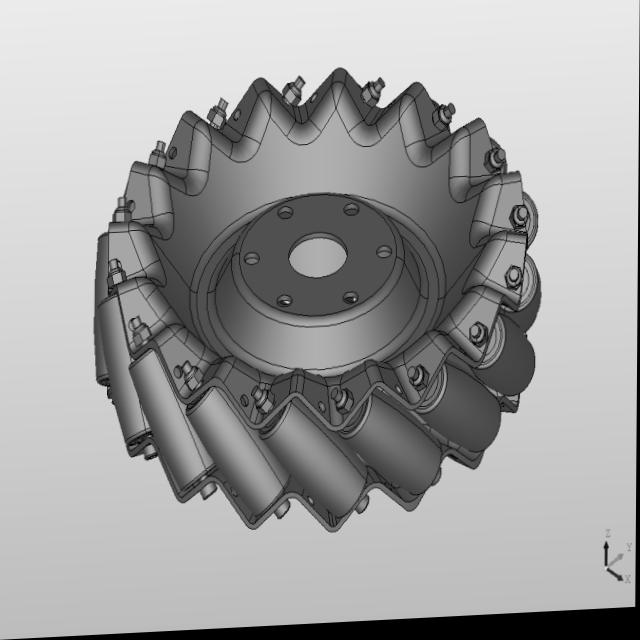screw: (123, 309, 162, 363), (247, 380, 282, 427), (462, 320, 496, 366), (105, 190, 138, 237), (102, 255, 137, 298), (178, 357, 212, 401), (280, 74, 314, 117), (202, 95, 235, 138), (480, 142, 512, 186), (142, 136, 173, 181), (327, 382, 361, 423), (427, 98, 458, 142), (504, 201, 535, 242), (360, 75, 388, 120), (405, 363, 434, 401), (500, 265, 527, 303)
